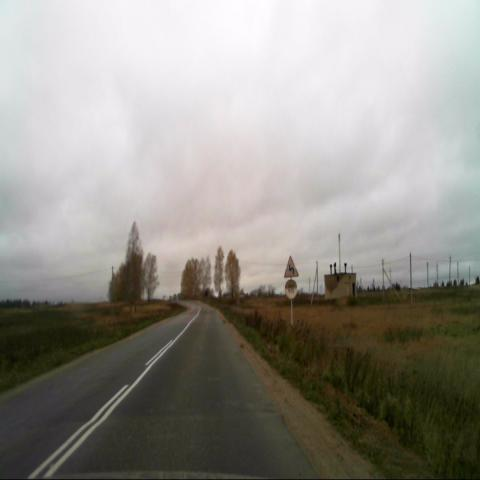1_12_2: (283, 254, 299, 279)
